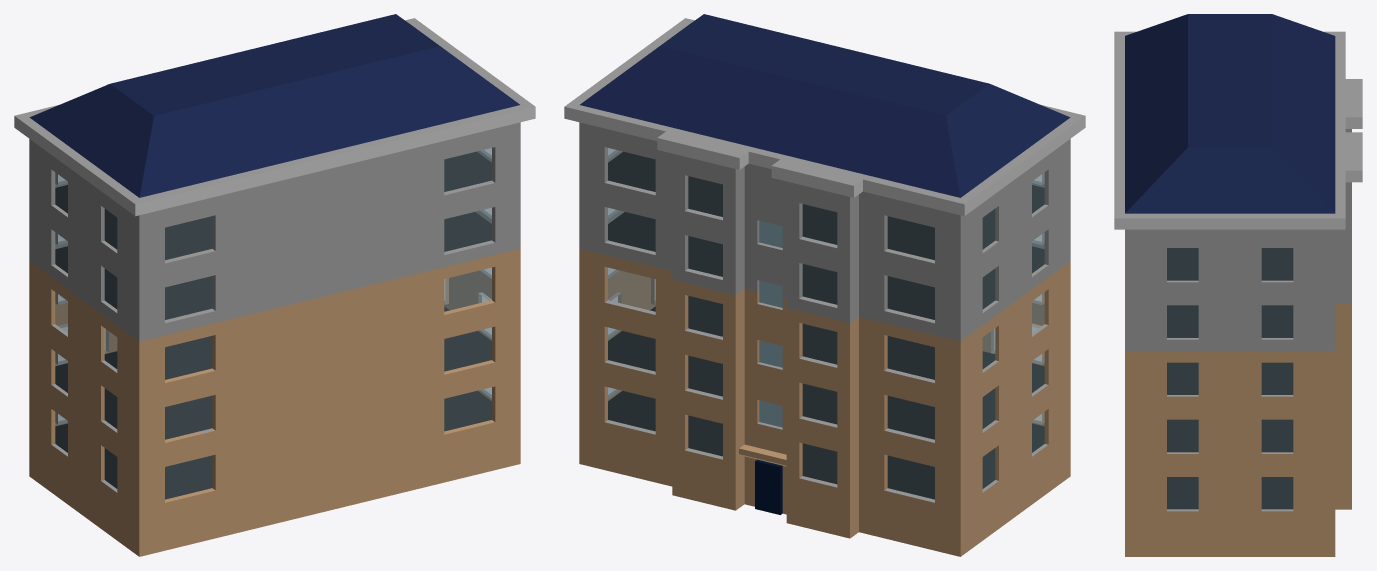
The picture shows the model from 3 angles, left to right: view 1: azimuth 30°, elevation 25°; view 2: azimuth 150°, elevation 25°; view 3: azimuth 270°, elevation 25°; orthographic projection. The views are drawn at different scales.
Visible parts, largest first — view 1: pCube1, pCube2, pCube4, pCube3, pCube6, pCube5; view 2: pCube1, pCube2, pCube4, pCube3, pCube6, pCube5; view 3: pCube1, pCube2, pCube4, pCube5, pCube6, pCube3.
Boxes of the visible parts, x1,y1,x2,y2 form: pCube1: (14, 18, 535, 556); pCube2: (29, 14, 519, 197); pCube4: (55, 306, 491, 439); pCube3: (55, 391, 491, 499); pCube6: (55, 151, 491, 259); pCube5: (55, 212, 491, 319); pCube1: (564, 18, 1085, 556); pCube2: (580, 14, 1070, 197); pCube4: (608, 296, 1044, 439); pCube3: (608, 391, 1044, 499); pCube6: (608, 151, 1044, 259); pCube5: (608, 212, 1044, 319); pCube1: (1114, 31, 1362, 556); pCube2: (1125, 14, 1335, 213); pCube4: (1167, 362, 1293, 452); pCube5: (1167, 305, 1293, 337); pCube6: (1167, 248, 1293, 280); pCube3: (1167, 477, 1293, 509).
Bounding box in the file's own units: 21 × 20.32 × 11.8.
